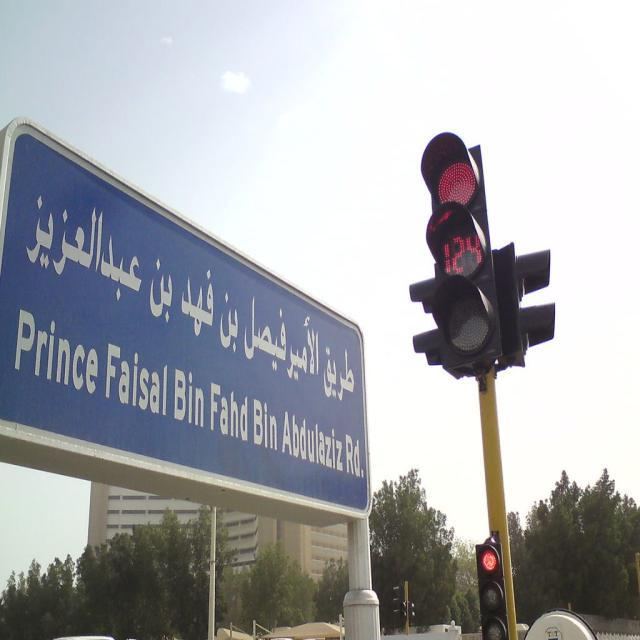traffic light: (427, 133, 495, 357), (478, 545, 509, 640)
